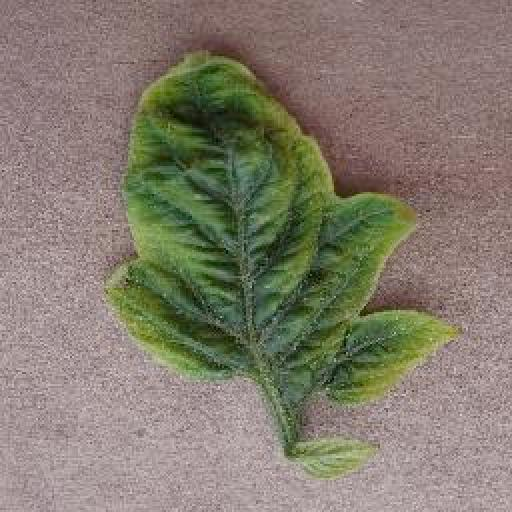disease_tomato: (107, 56, 456, 402)
